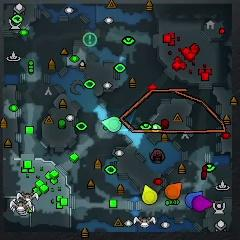p1: (185, 191, 203, 208)
p2: (101, 116, 121, 132)
p3: (193, 195, 213, 212)
p4: (142, 185, 157, 204)
p5: (165, 182, 183, 200)
